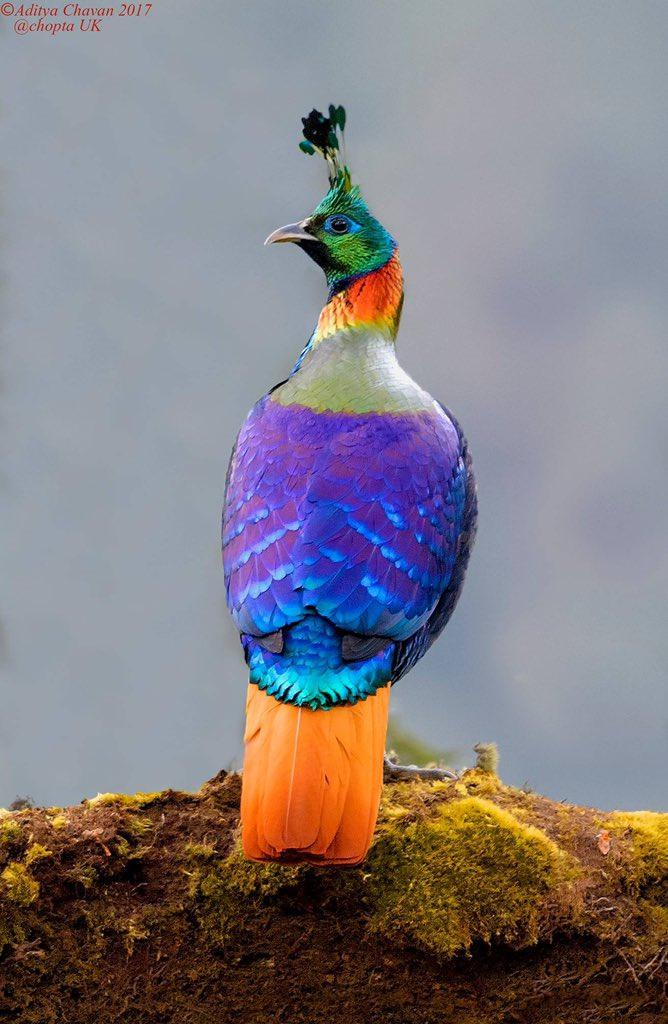bird: (191, 63, 478, 886)
